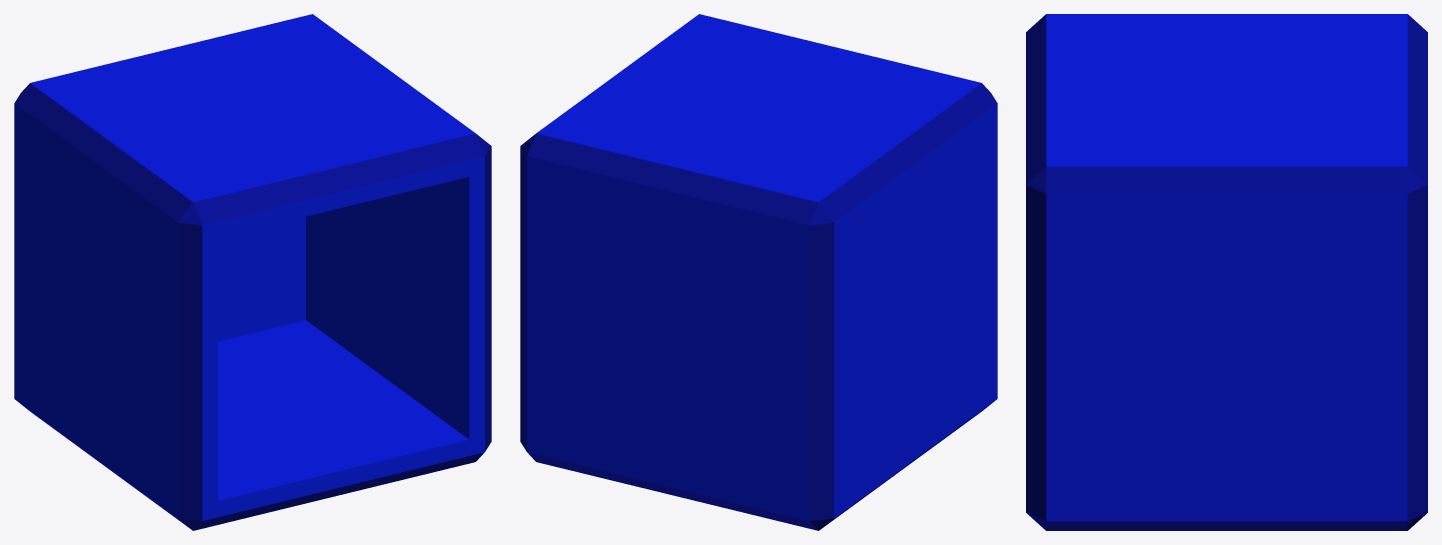
Rendered from 05-start-block.glb.
The picture shows the model from 3 angles, left to right: view 1: azimuth 30°, elevation 25°; view 2: azimuth 150°, elevation 25°; view 3: azimuth 270°, elevation 25°; orthographic projection. The views are drawn at different scales.
Parts seen in each view (by area): view 1: 05-start-block; view 2: 05-start-block; view 3: 05-start-block.
Boxes of the visible parts, x1,y1,x2,y2 form: 05-start-block: [14, 14, 491, 530]; 05-start-block: [520, 14, 997, 530]; 05-start-block: [1026, 14, 1427, 530].
Size of the model in its own units: 2 by 2 by 2.
